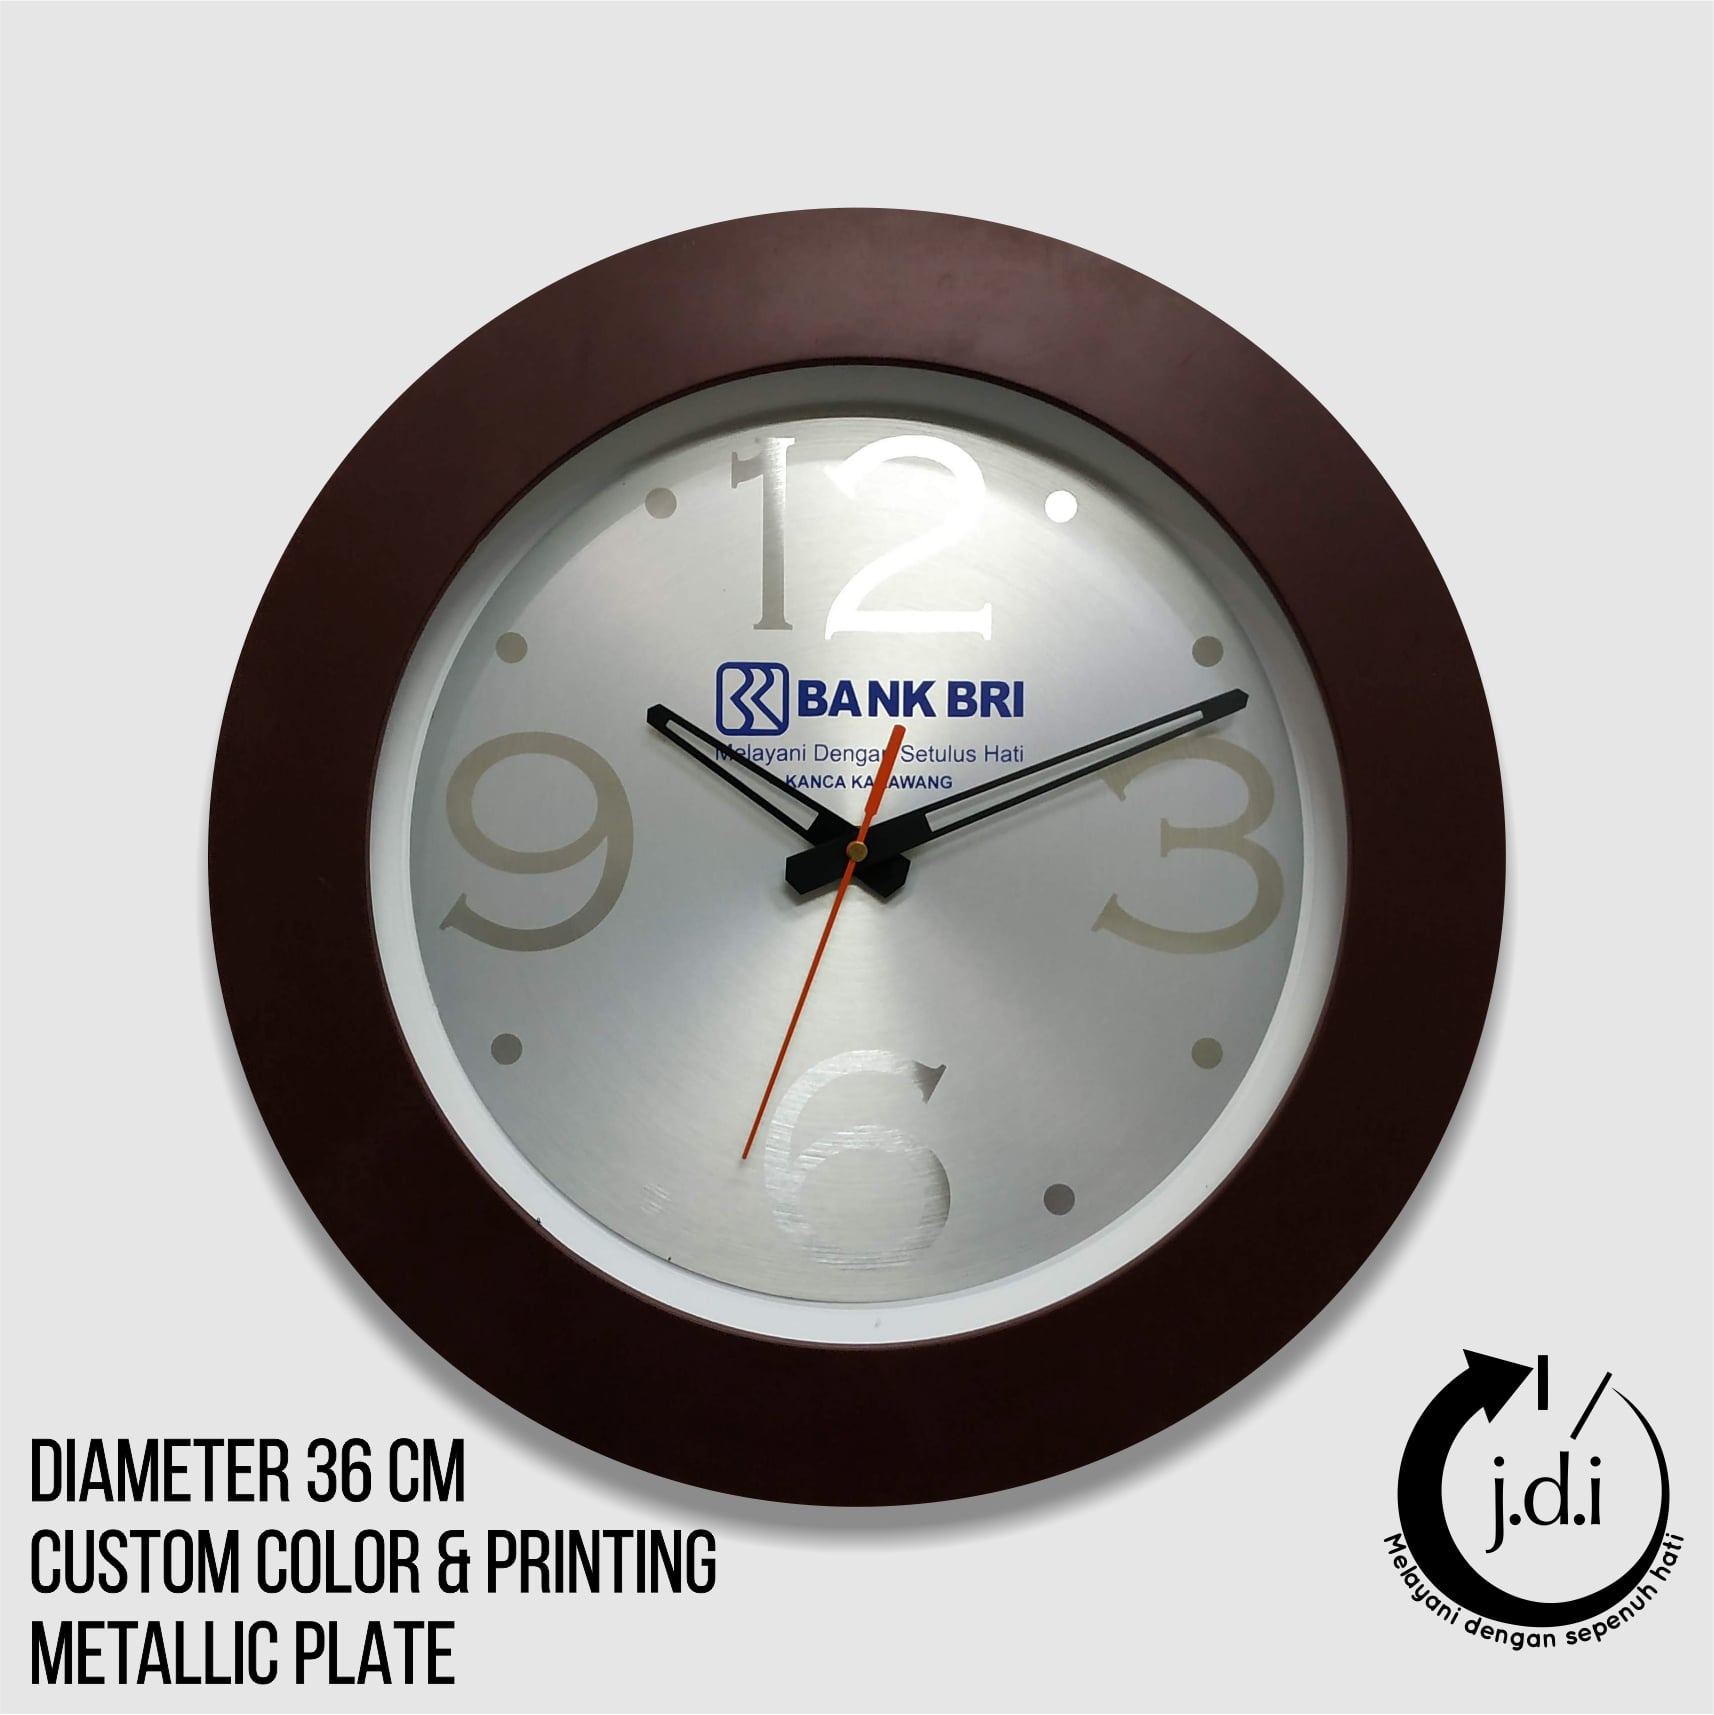jam dinding: (108, 213, 1533, 1604)
